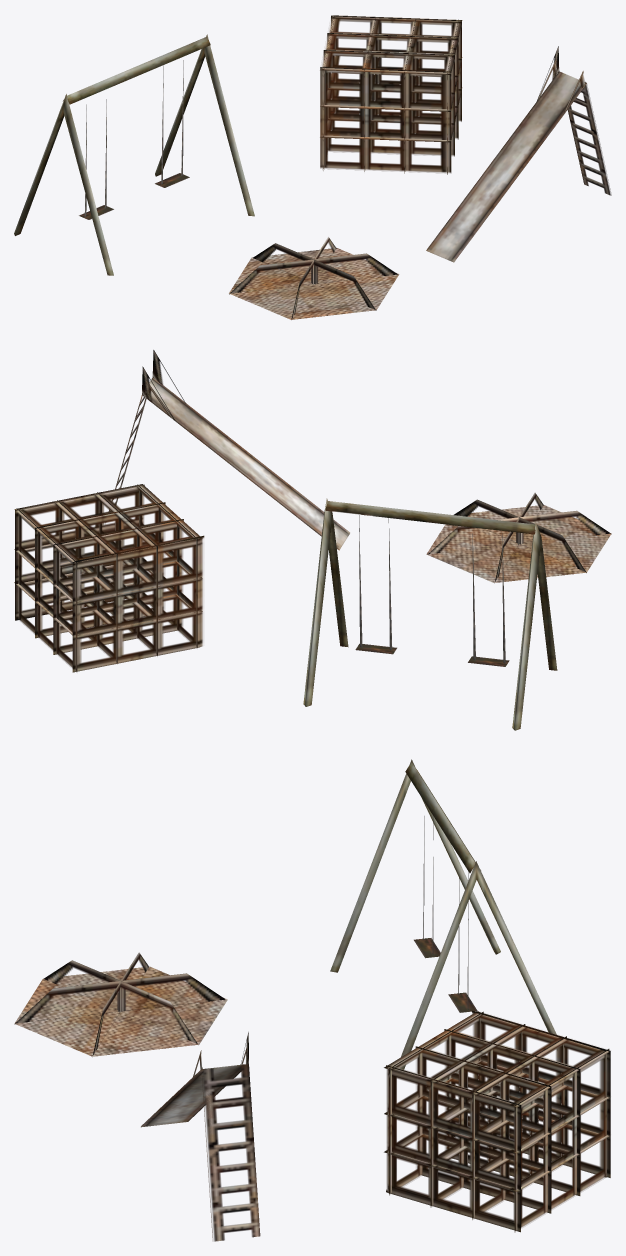
The model's file is Environment - Prop - Playground Set - PMPlygdSt.glb.
The picture shows the model from 3 angles, top to bottom: view 1: azimuth 30°, elevation 25°; view 2: azimuth 150°, elevation 25°; view 3: azimuth 270°, elevation 25°; orthographic projection. The views are drawn at different scales.
Parts seen in each view (by area): view 1: PMPLYGDST; view 2: PMPLYGDST; view 3: PMPLYGDST.
Boxes of the visible parts, bbox=[...] form: PMPLYGDST: bbox=[14, 15, 611, 319]; PMPLYGDST: bbox=[14, 350, 611, 730]; PMPLYGDST: bbox=[14, 759, 610, 1241].
Size of the model in its own units: 44.69 by 14.58 by 38.17.
1 material, 1 textured.
